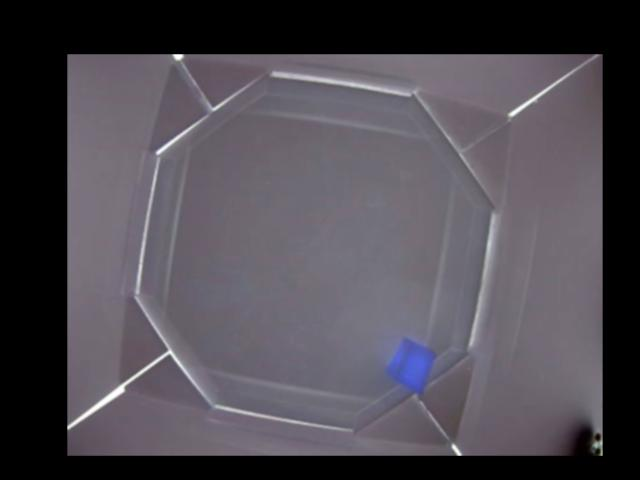Potato: (386, 336, 432, 392)
